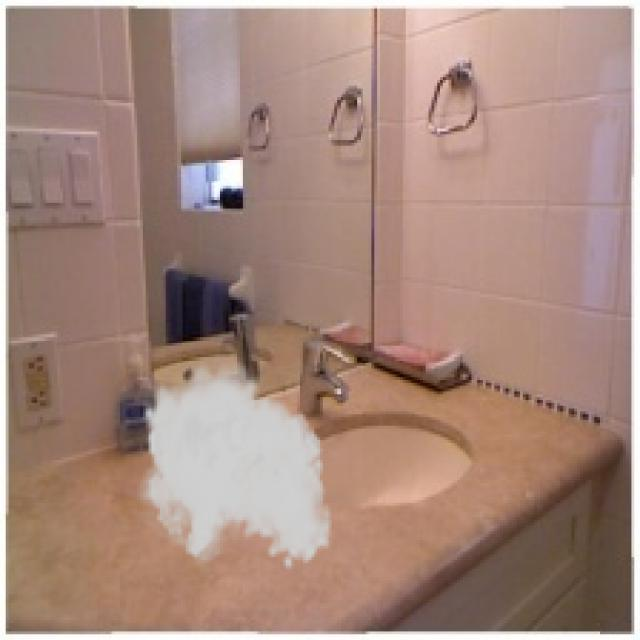Smoke: (132, 354, 334, 572)
